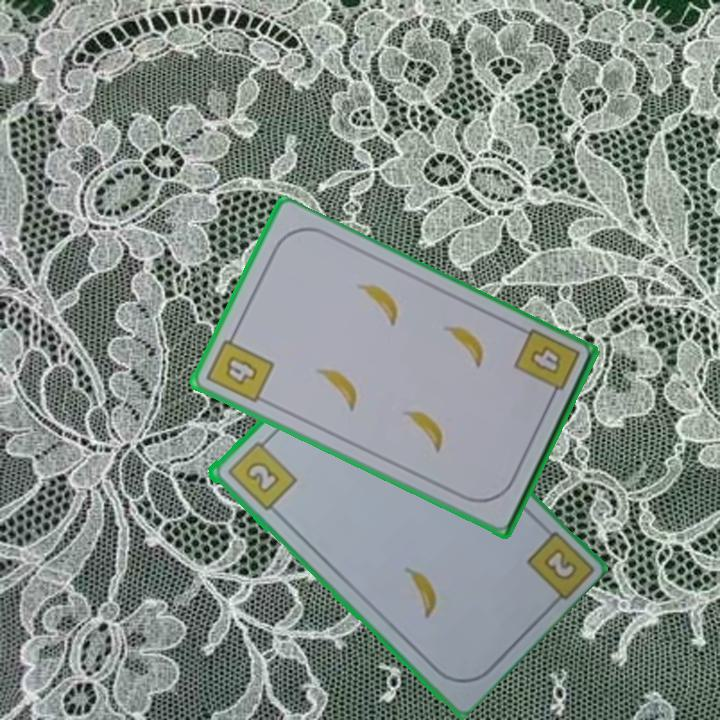2b: (223, 433, 299, 514), (539, 544, 580, 584)
4b: (202, 328, 277, 407), (510, 326, 583, 406)
